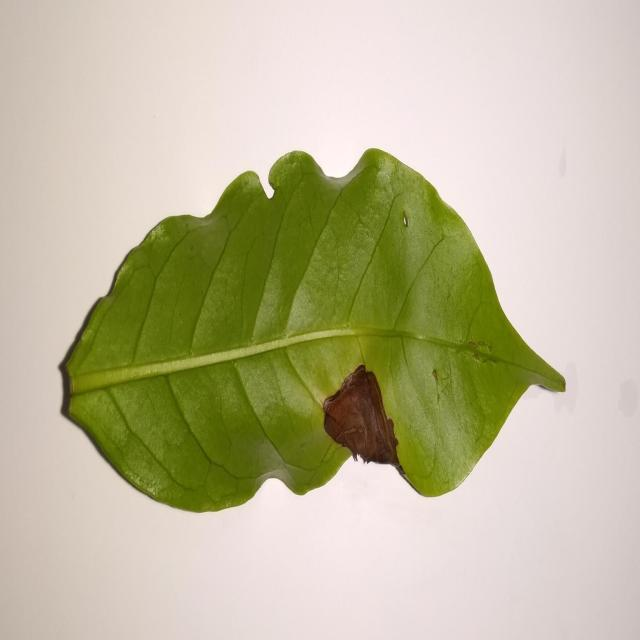Enfermedad-Antracnosis: (59, 149, 568, 516)
